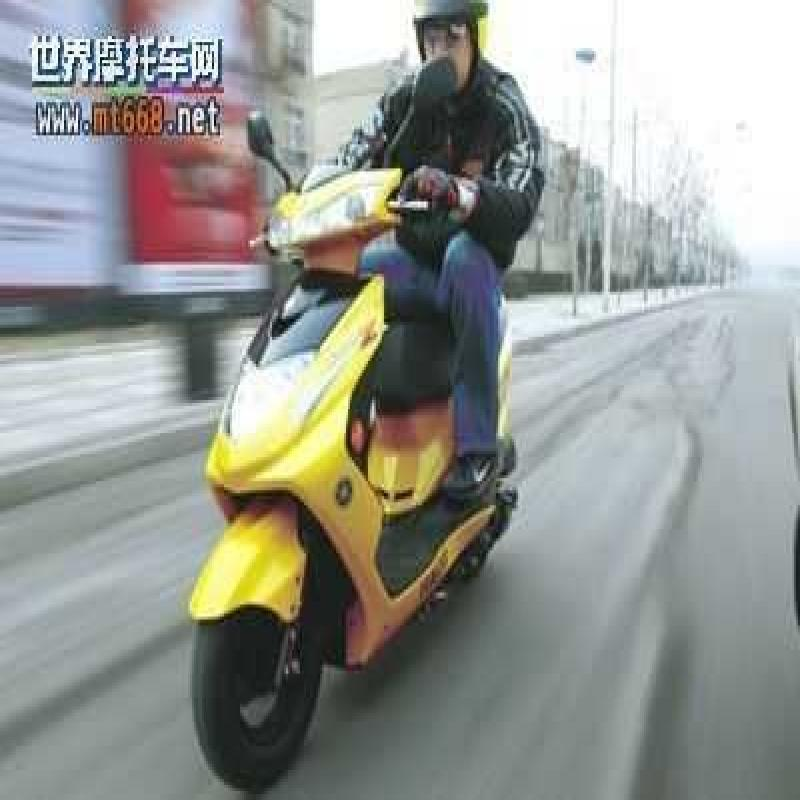bike: (183, 91, 537, 756)
